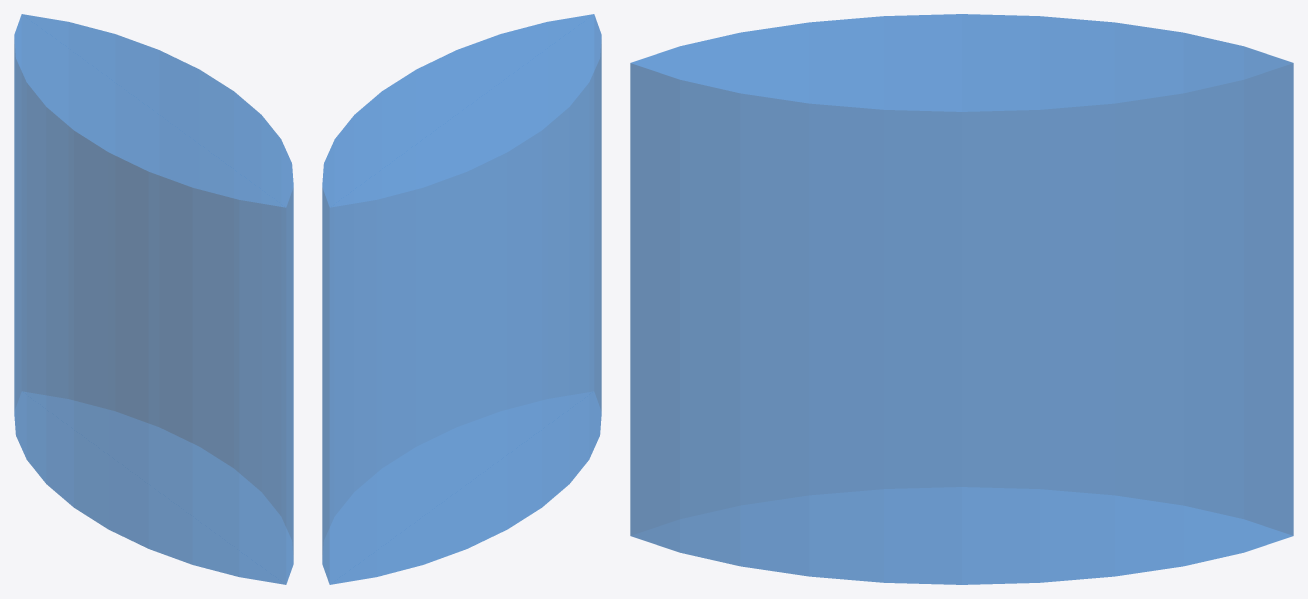
The model's file is двояковыпуклая линза.fbx.
3 views of the same model, side by side, from view 1: azimuth 30°, elevation 25°; view 2: azimuth 150°, elevation 25°; view 3: azimuth 270°, elevation 25° (orthographic). The views are drawn at different scales.
Visible parts, largest first — view 1: Cylinder; view 2: Cylinder; view 3: Cylinder.
Boxes of the visible parts, x1,y1,x2,y2 form: Cylinder: [14, 14, 293, 584]; Cylinder: [322, 14, 601, 584]; Cylinder: [630, 14, 1293, 584].
Size of the model in its own units: 88.85 by 200 by 254.
